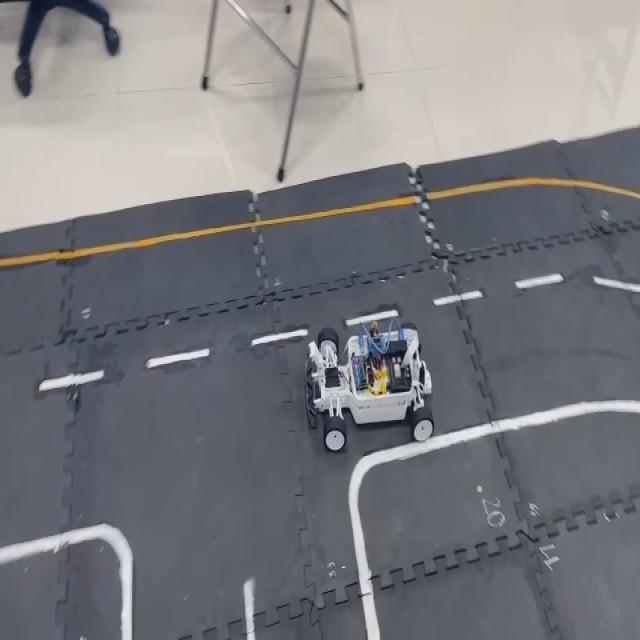SiCo-CAR: (302, 307, 434, 452)
